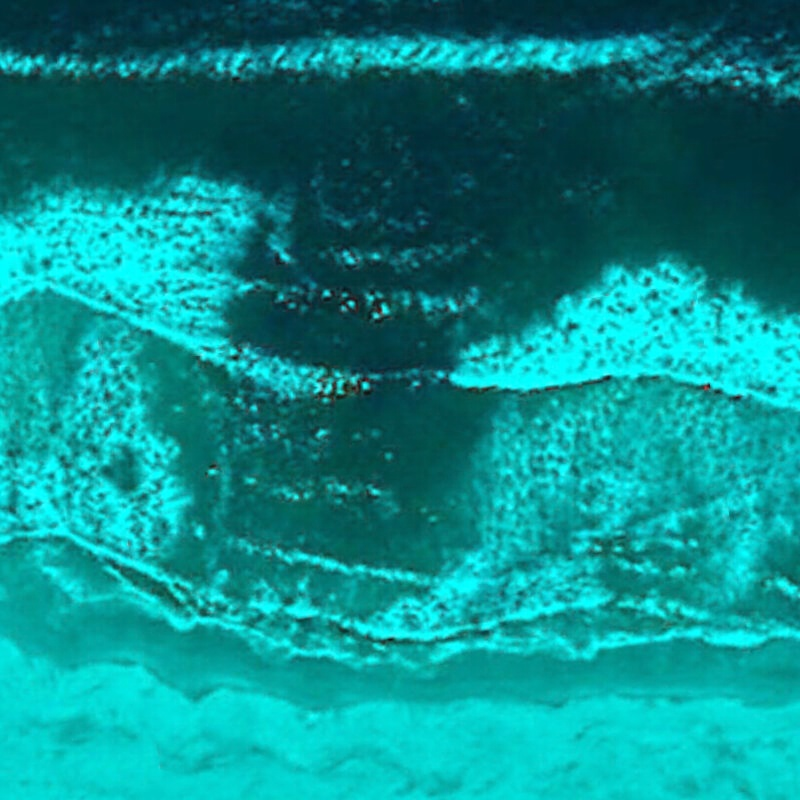rip_current: (112, 140, 566, 587)
